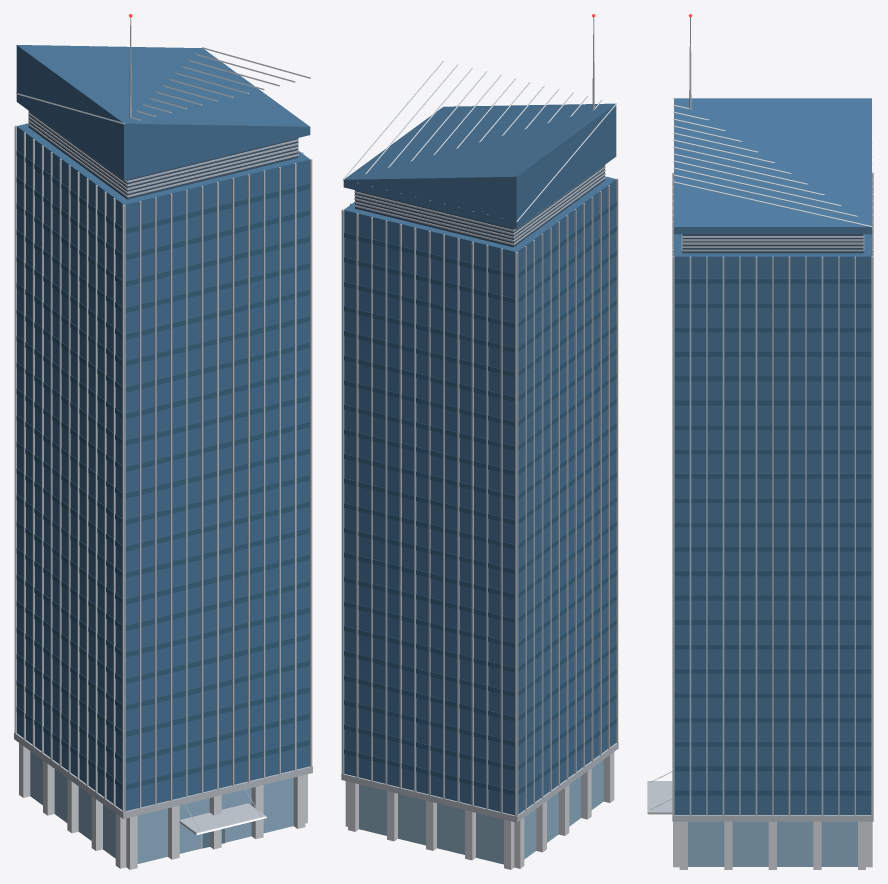
The model's file is glass_tower.glb.
3 renders of one model, left to right at view 1: azimuth 30°, elevation 25°; view 2: azimuth 150°, elevation 25°; view 3: azimuth 270°, elevation 25°, orthographic. The views are drawn at different scales.
Visible parts, largest first — view 1: glass_tower; view 2: glass_tower; view 3: glass_tower.
Boxes of the visible parts, x1=… form: glass_tower: x1=14, y1=14, x2=312, y2=869; glass_tower: x1=341, y1=14, x2=618, y2=869; glass_tower: x1=647, y1=14, x2=873, y2=869.
Bounding box in the file's own units: 24.4 × 104 × 27.42.
